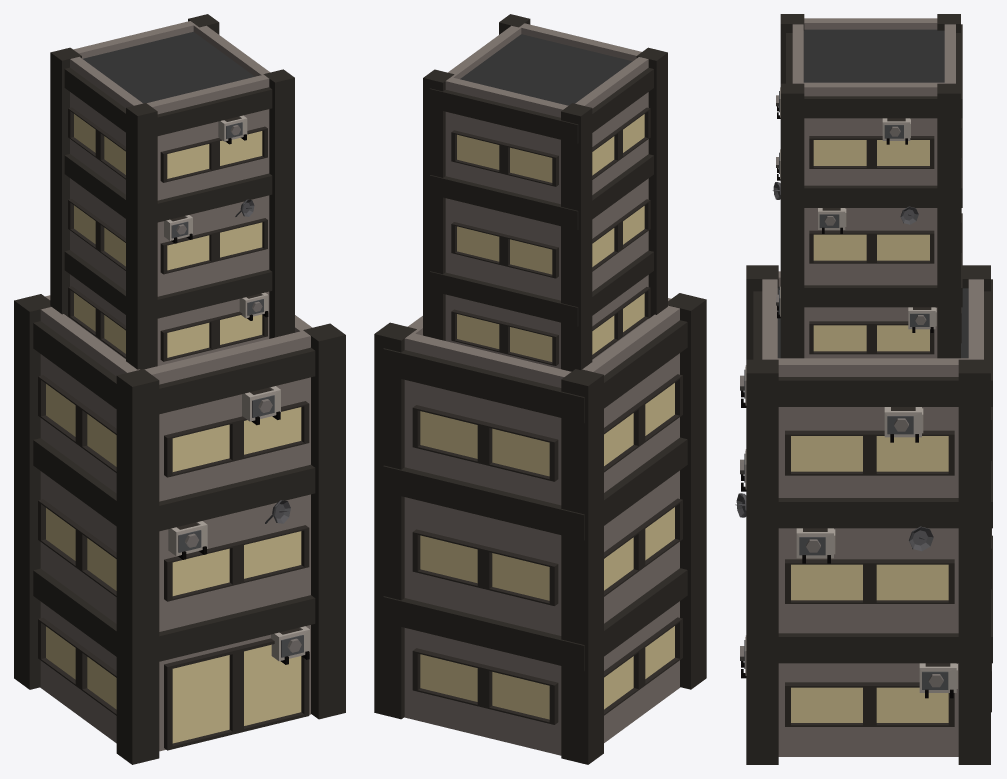
The model's file is BuildingC.fbx.
The picture shows the model from 3 angles, left to right: view 1: azimuth 30°, elevation 25°; view 2: azimuth 150°, elevation 25°; view 3: azimuth 270°, elevation 25°; orthographic projection. The views are drawn at different scales.
Visible parts, largest first — view 1: Cylinder.020_Cylinder.005; view 2: Cylinder.020_Cylinder.005; view 3: Cylinder.020_Cylinder.005.
Boxes of the visible parts, x1,y1,x2,y2 form: Cylinder.020_Cylinder.005: [14, 14, 345, 764]; Cylinder.020_Cylinder.005: [374, 14, 706, 764]; Cylinder.020_Cylinder.005: [735, 14, 992, 764].
Bounding box in the file's own units: 4.62 × 12.68 × 4.53.
